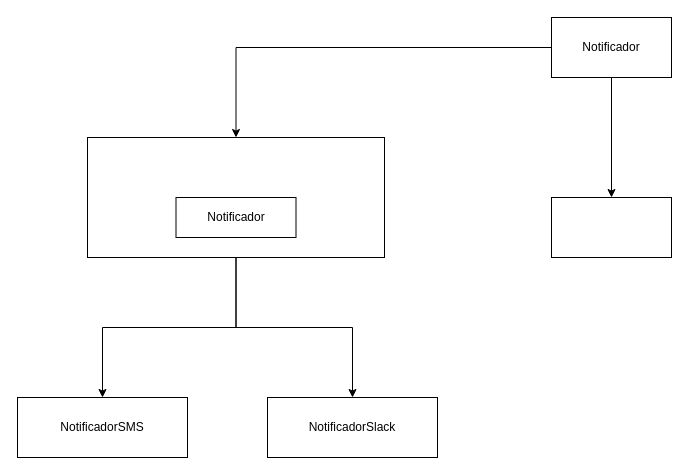
Some shapes in this 689 by 475 pixel diagram are drawn without their labels. The box of each missing label's shape, as (x1, y1, x2, y2) in pixels:
NotificadorDecorator: (86, 136, 384, 258)
NotificadorEmail: (550, 196, 672, 258)
